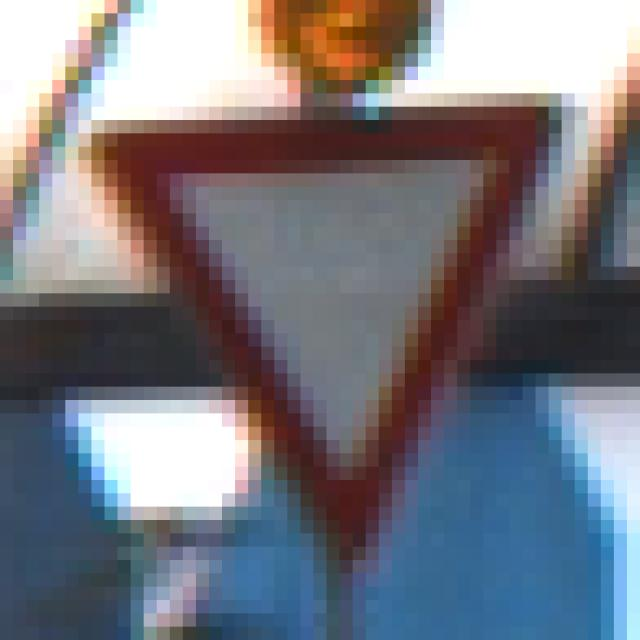Give Way: (79, 81, 563, 561)
